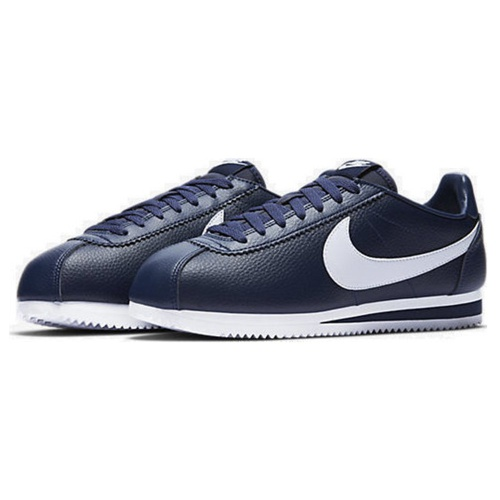nike: (320, 213, 482, 292)
